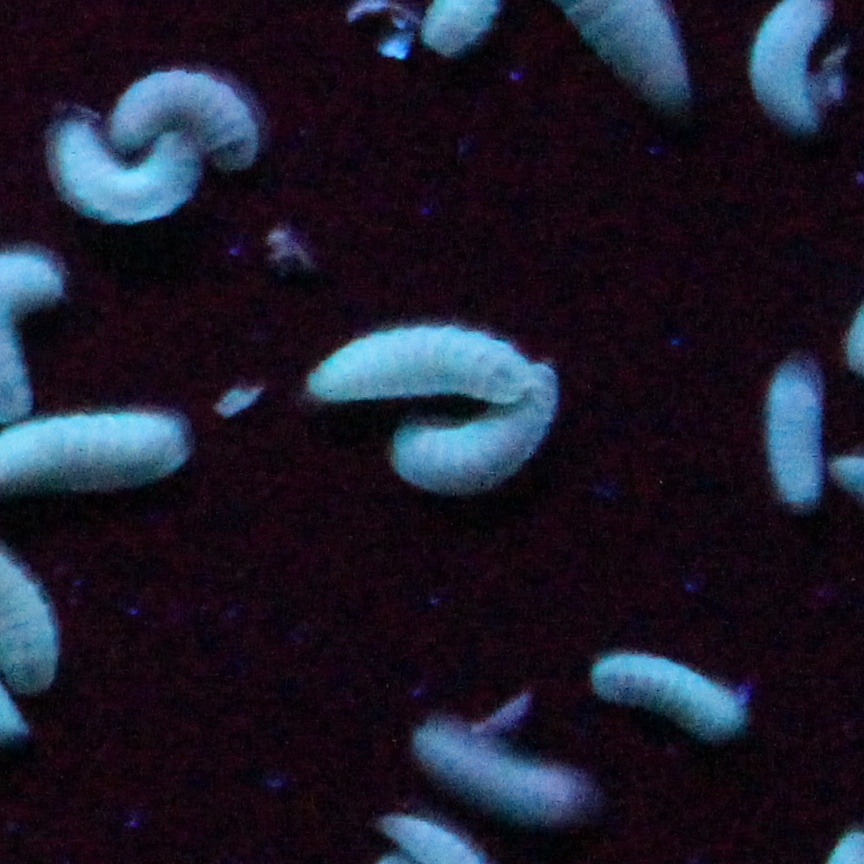larve: (414, 718, 588, 828), (302, 335, 530, 405), (384, 405, 554, 492), (589, 652, 743, 745), (107, 75, 257, 170), (54, 132, 192, 231), (763, 360, 822, 517)
